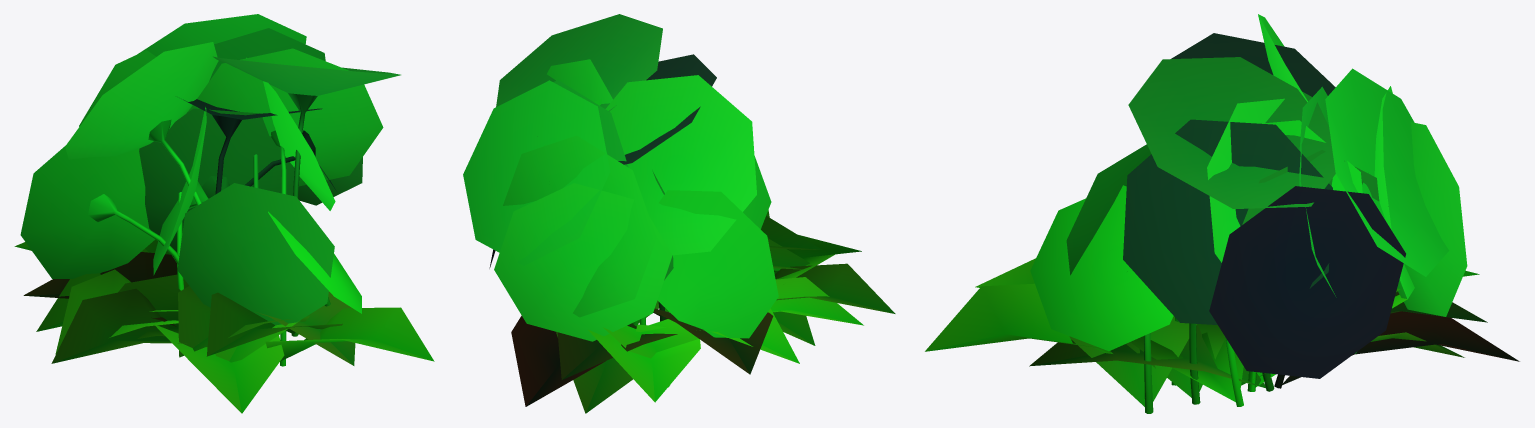
File: mv_FlowerA.fbx
3 renders of one model, left to right at view 1: azimuth 30°, elevation 25°; view 2: azimuth 150°, elevation 25°; view 3: azimuth 270°, elevation 25°, orthographic. The views are drawn at different scales.
Visible parts, largest first — view 1: FlowerA_LOD0; view 2: FlowerA_LOD0; view 3: FlowerA_LOD0.
Part boxes in pixels (bbox=[...]): FlowerA_LOD0: bbox=[14, 14, 434, 413]; FlowerA_LOD0: bbox=[463, 14, 895, 413]; FlowerA_LOD0: bbox=[925, 14, 1519, 413].
Size of what is drawn, in the model's own units: 21.36 by 15.63 by 25.39.
